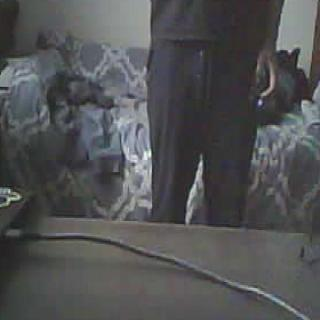Navy Sweatpants: (145, 39, 255, 226)
